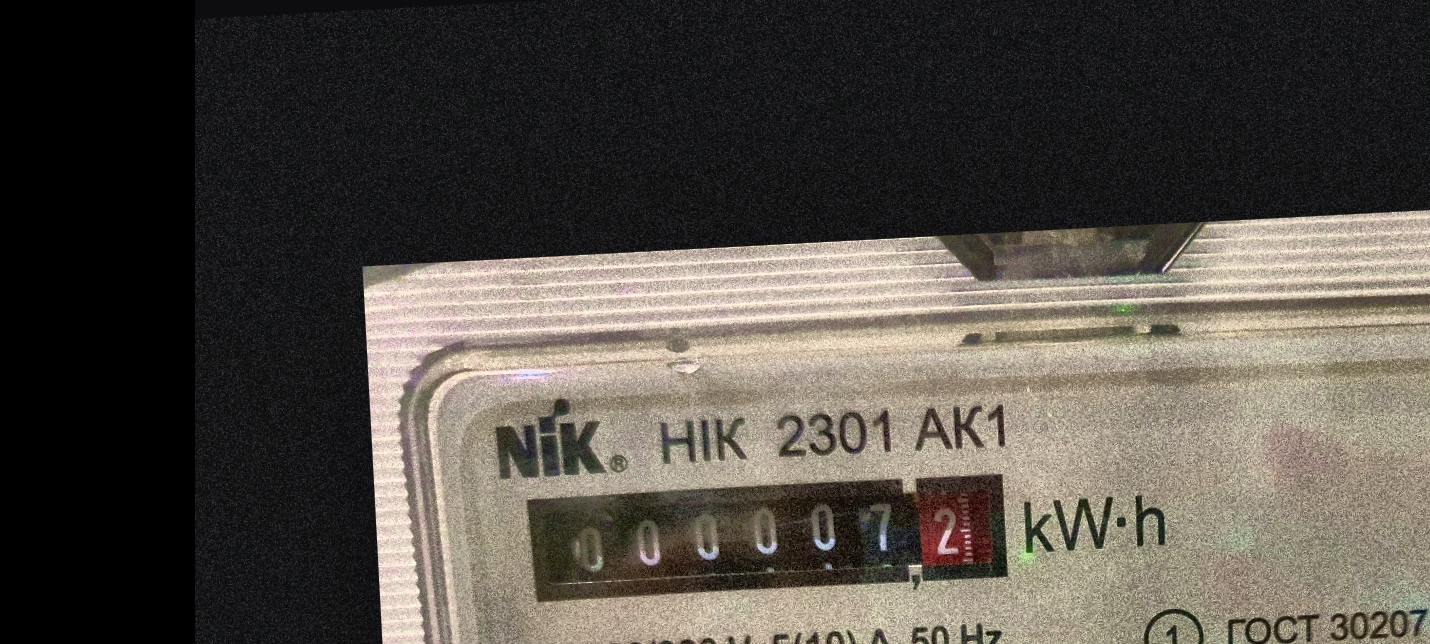0: (630, 514, 668, 568), (806, 500, 841, 554), (691, 508, 724, 562), (749, 503, 782, 557), (575, 522, 609, 574)
2: (930, 505, 963, 557)
7: (865, 498, 898, 554)
screen: (509, 453, 1030, 622)
